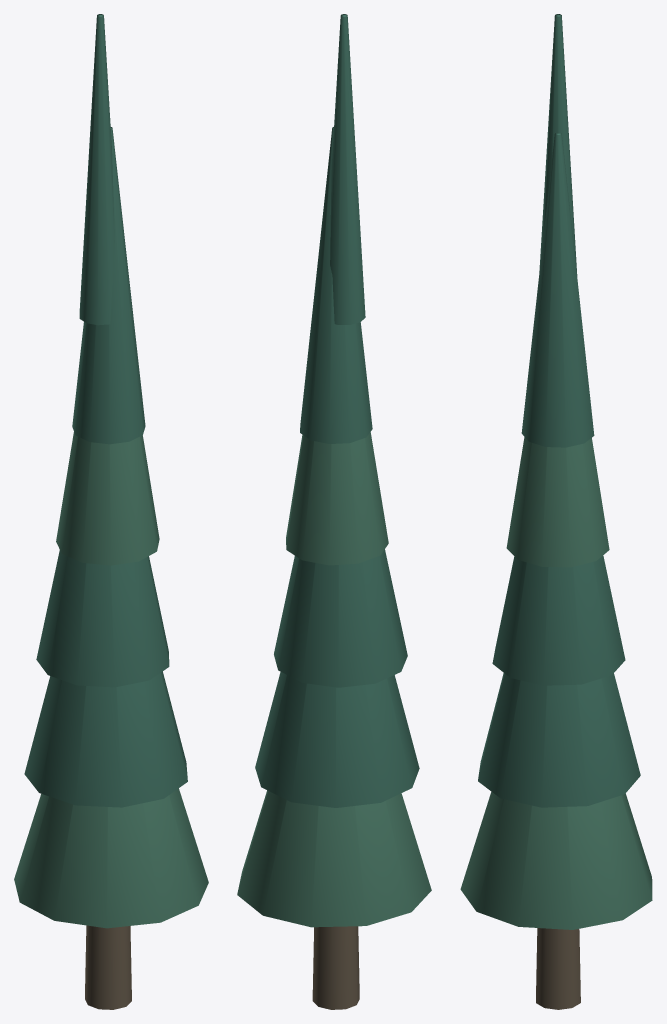
Rendered from cypress_tree_variant_01.glb.
3 renders of one model, left to right at view 1: azimuth 30°, elevation 25°; view 2: azimuth 150°, elevation 25°; view 3: azimuth 270°, elevation 25°, orthographic.
Visible parts, largest first — view 1: static_leaf_pine, static_leaf_pine_light, trunk; view 2: static_leaf_pine, static_leaf_pine_light, trunk; view 3: static_leaf_pine, static_leaf_pine_light, trunk.
Boxes of the visible parts, x1,y1,x2,y2 form: static_leaf_pine: (24,14,187,807); static_leaf_pine_light: (14,432,208,928); trunk: (85,925,131,1009); static_leaf_pine: (255,14,419,807); static_leaf_pine_light: (237,432,431,927); trunk: (312,926,359,1009); static_leaf_pine: (478,14,640,807); static_leaf_pine_light: (460,437,652,929); trunk: (536,928,580,1009).
Bounding box in the file's own units: 1.64 × 9.17 × 1.63.
